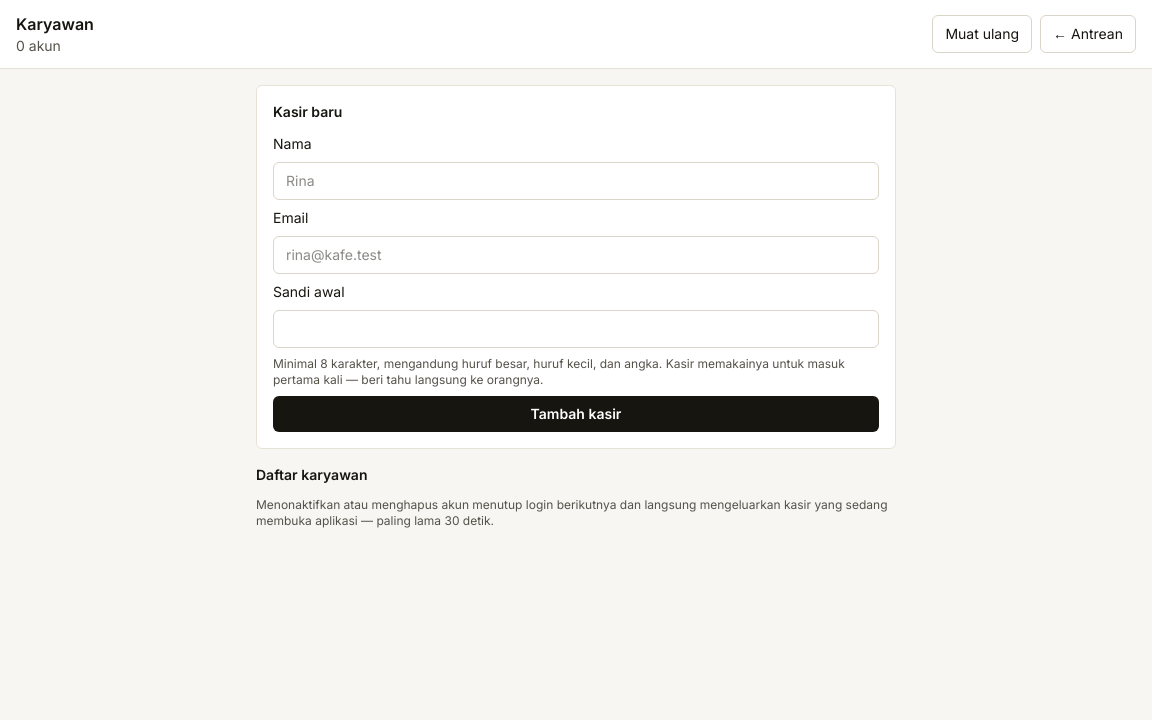
menambah kasir › sandi tidak dikosongkan kalau server menolak
Type "Budi" into the field labelled "Nama" at (576, 181), box [273, 162, 879, 200]
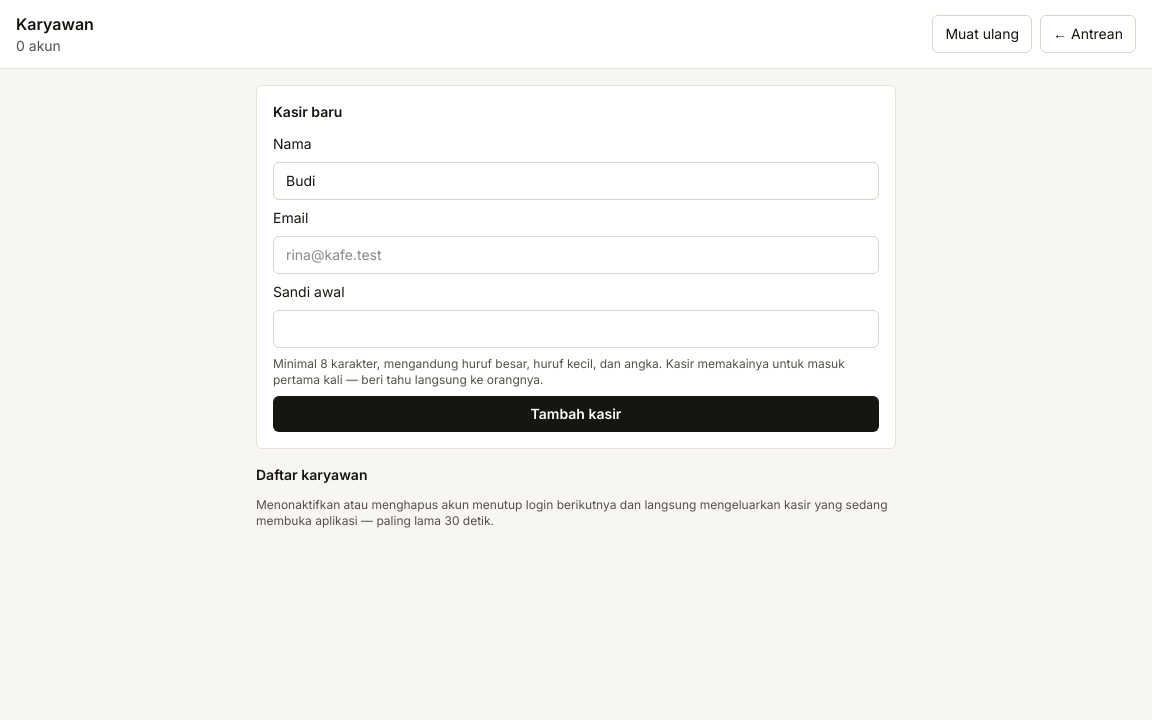
Type "budi@kafe.test" into the field labelled "Email" at (576, 255), box [273, 236, 879, 274]
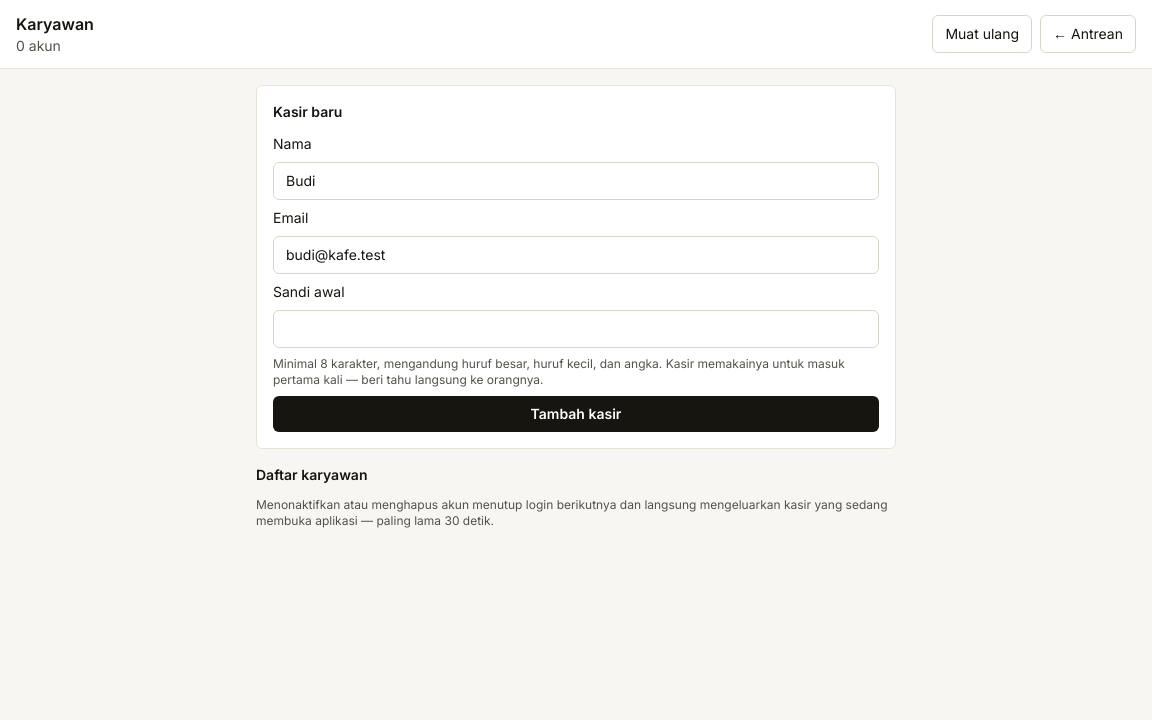
Type "pendek" into the password field labelled "Sandi awal" at (576, 329), box [273, 310, 879, 348]
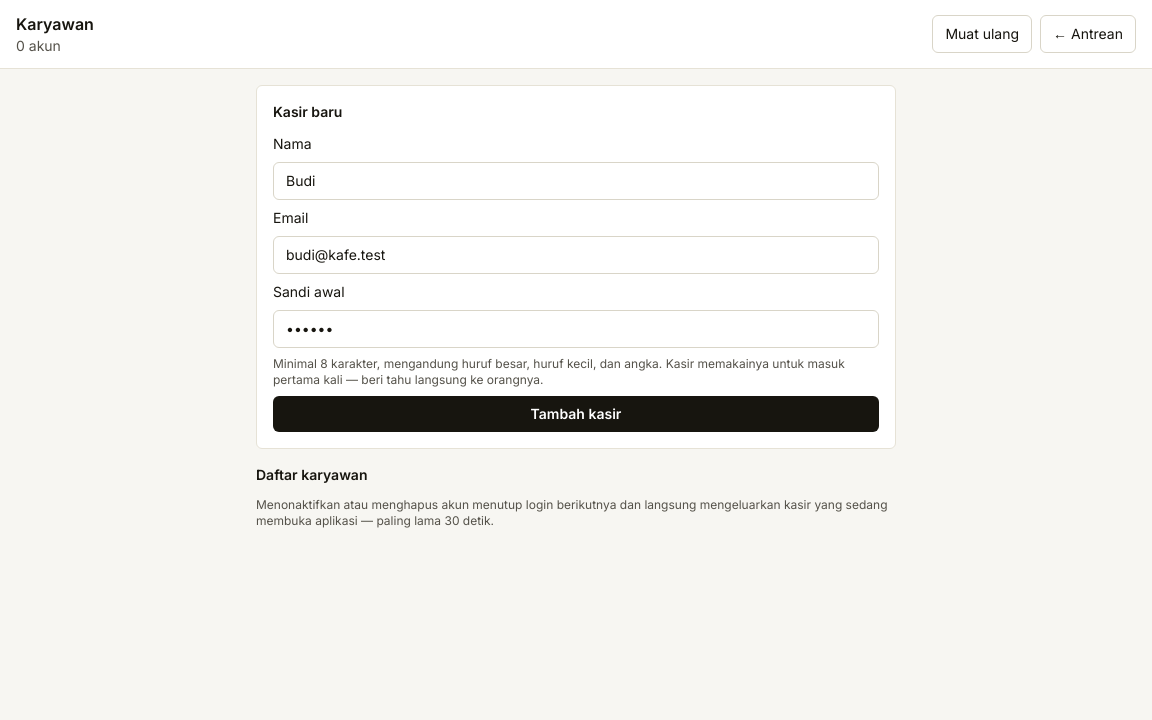
Click the button "Tambah kasir" at (576, 414), box [273, 396, 879, 432]
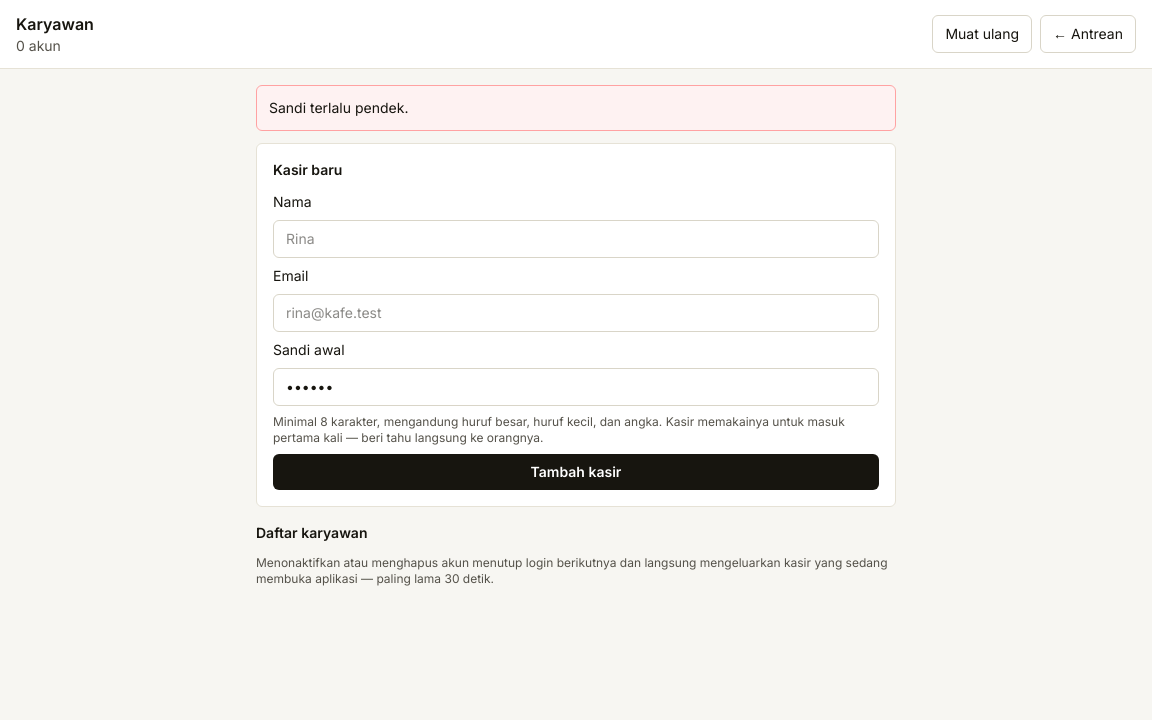
Check: the message "Sandi terlalu pendek." is shown, box [256, 85, 896, 131]
